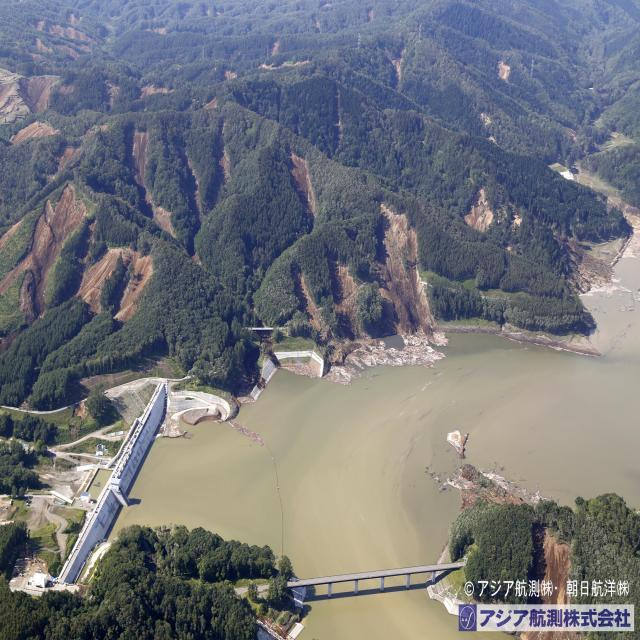Debris-flow: (0, 182, 90, 328), (375, 202, 435, 336), (76, 244, 152, 324), (119, 129, 174, 238), (0, 11, 95, 52), (346, 69, 412, 114), (0, 71, 55, 124), (330, 261, 358, 336), (289, 150, 318, 219), (321, 0, 370, 38), (235, 0, 270, 52), (375, 0, 421, 39), (296, 276, 325, 336), (274, 0, 314, 43), (465, 188, 494, 232), (498, 62, 510, 82), (480, 112, 491, 126)
